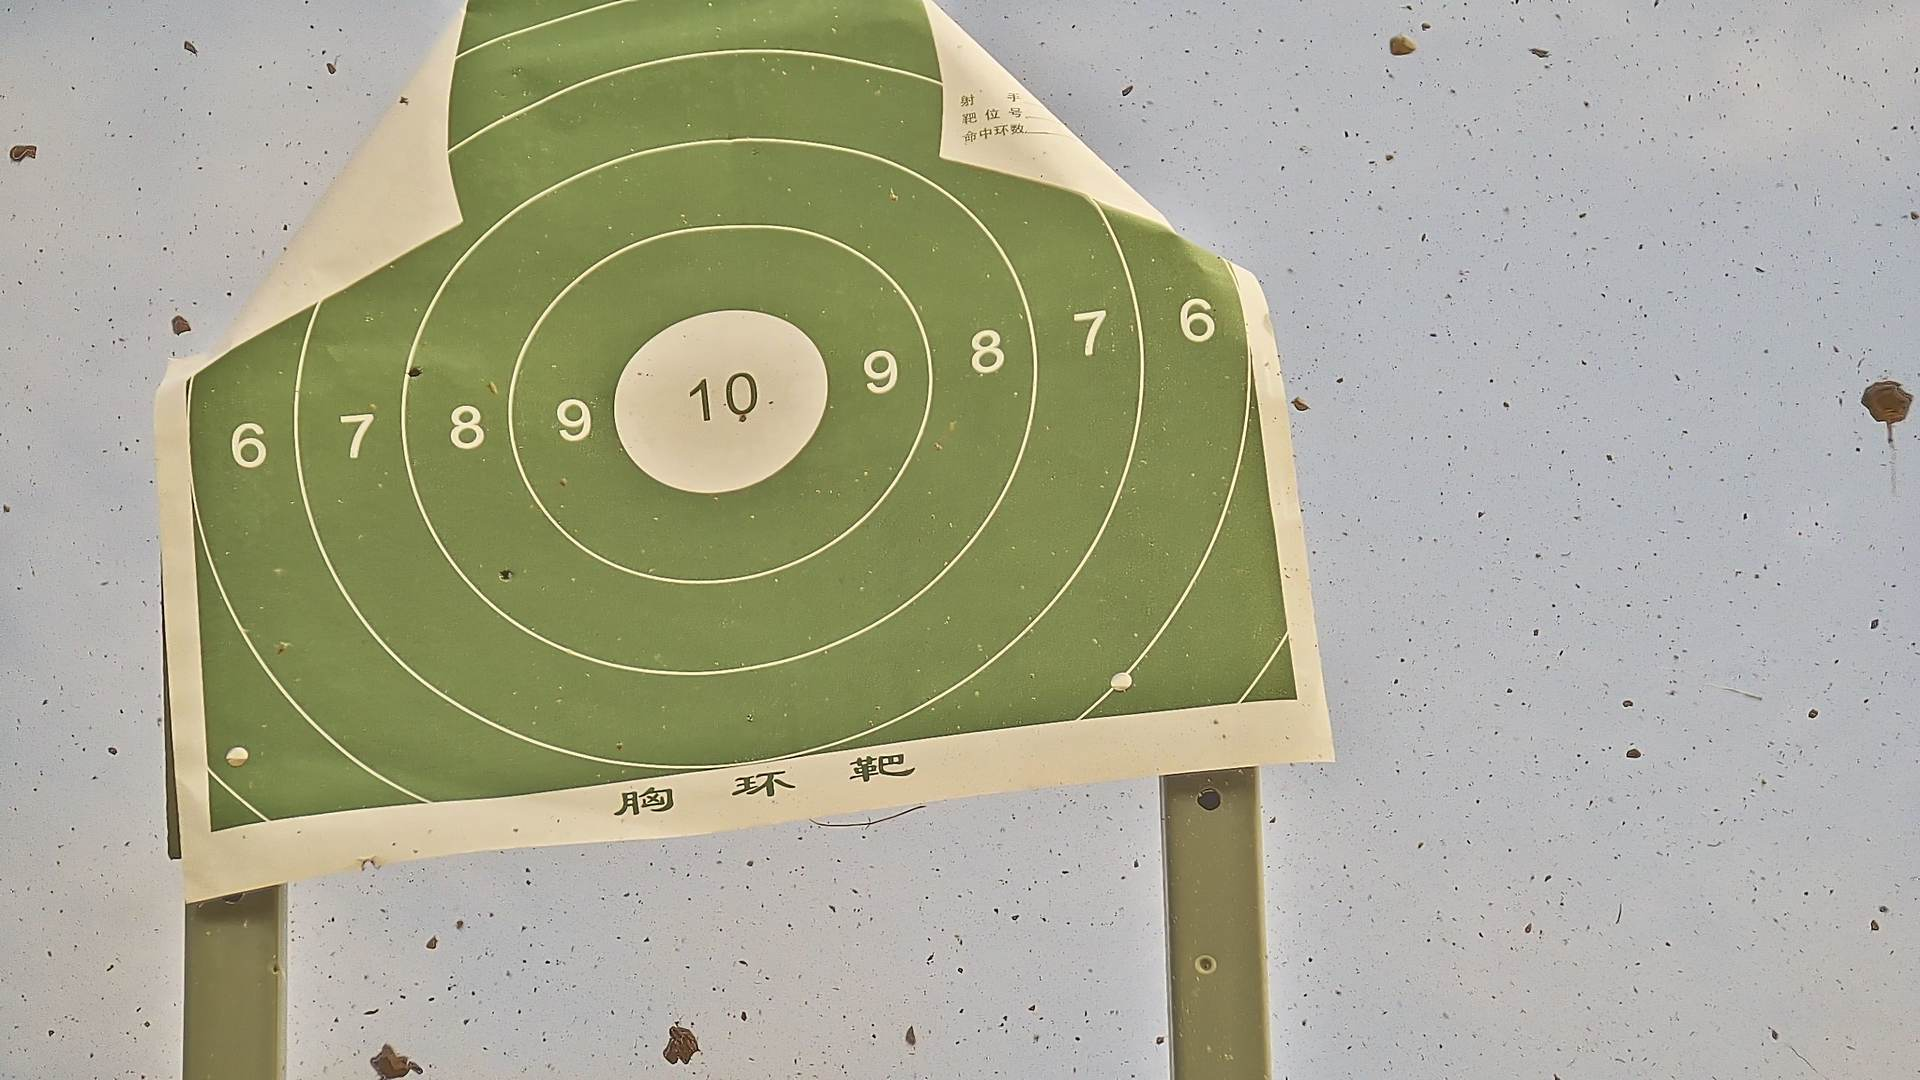hole: (498, 567, 513, 582), (406, 367, 419, 380)
kernel: (715, 392, 719, 401)
target: (185, 1, 1302, 837)
ten: (615, 311, 824, 498)
